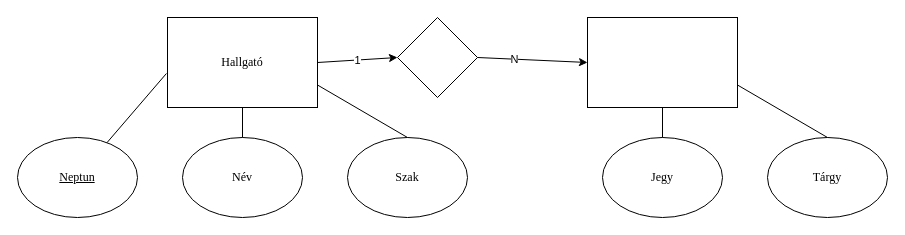
The diagram is 905 pixels wide and 235 high, and some of its shapes have lost their labels. Here are the shapes that lost their labels. From the top down, the centre of each, then its label:
At pixel 437 57: "Vizsgázik".
At pixel 662 62: "Jegyzőkönyv".
